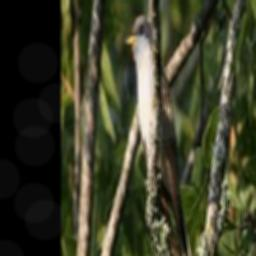Cuckoo: (124, 15, 194, 256)
